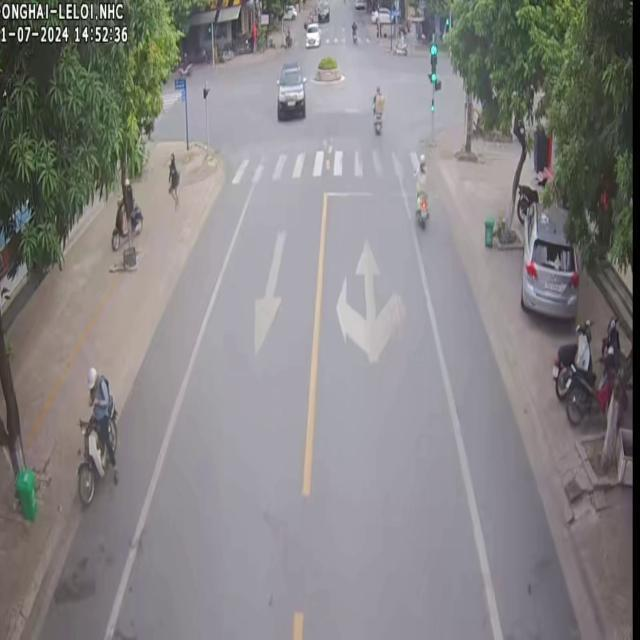car: (519, 200, 578, 317), (274, 60, 304, 117), (304, 22, 319, 45)
green_light: (429, 44, 437, 84)
motobike: (76, 365, 117, 502), (564, 347, 614, 422), (552, 318, 590, 398), (413, 151, 427, 227), (370, 85, 383, 134)
stop_line: (324, 189, 410, 195)
